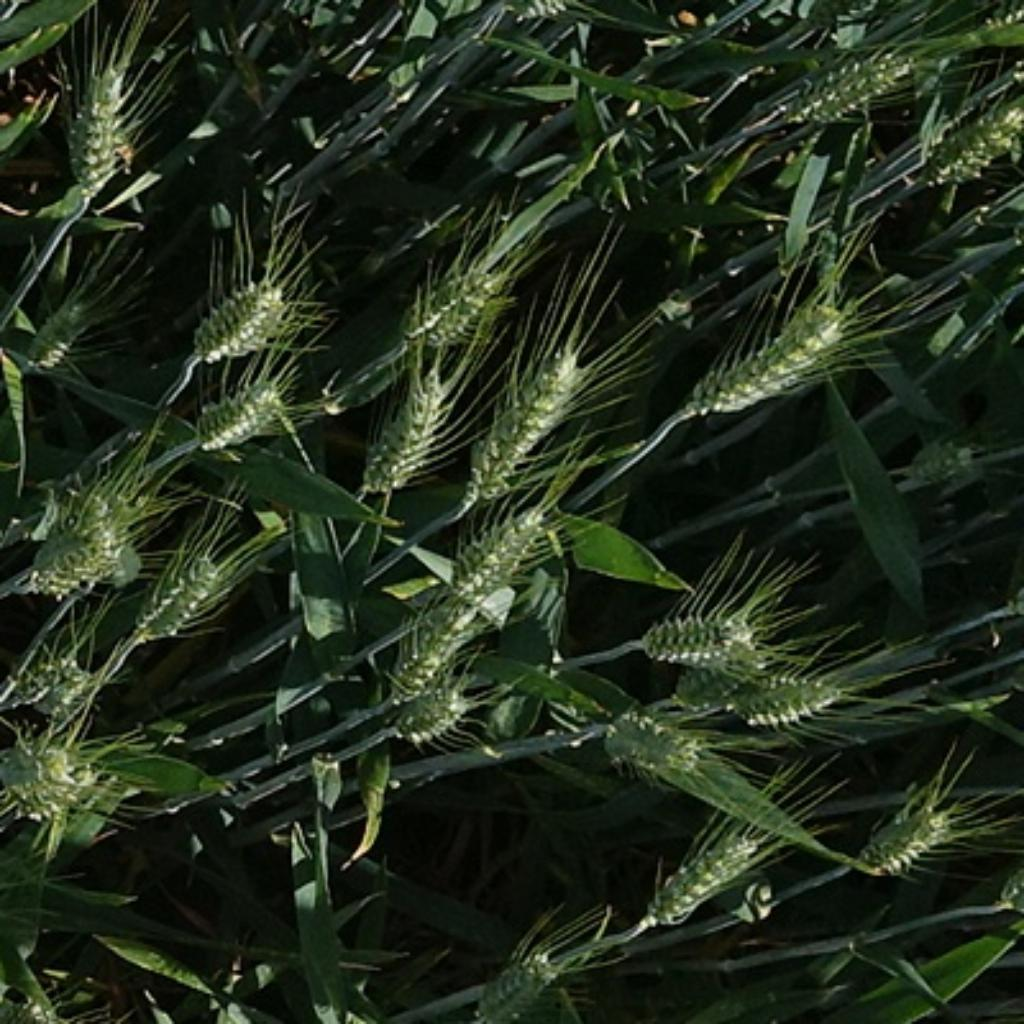0-0: (670, 279, 867, 430), (453, 337, 604, 509), (624, 814, 780, 936), (46, 40, 145, 220), (629, 586, 780, 698), (376, 576, 496, 706), (0, 714, 130, 826), (442, 494, 563, 611), (40, 453, 181, 547), (130, 532, 245, 642), (778, 38, 919, 125), (174, 268, 299, 366), (399, 250, 512, 353), (355, 373, 448, 496), (849, 780, 962, 878), (15, 266, 115, 373), (12, 519, 133, 604), (719, 647, 855, 721), (596, 698, 706, 783), (186, 373, 291, 453), (471, 942, 573, 1024), (5, 640, 107, 721), (921, 117, 1024, 181), (896, 427, 988, 491), (389, 680, 473, 744), (919, 1018, 1016, 1024)
